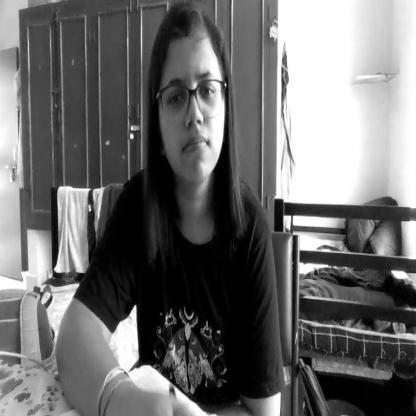Normal: (152, 5, 229, 190)
